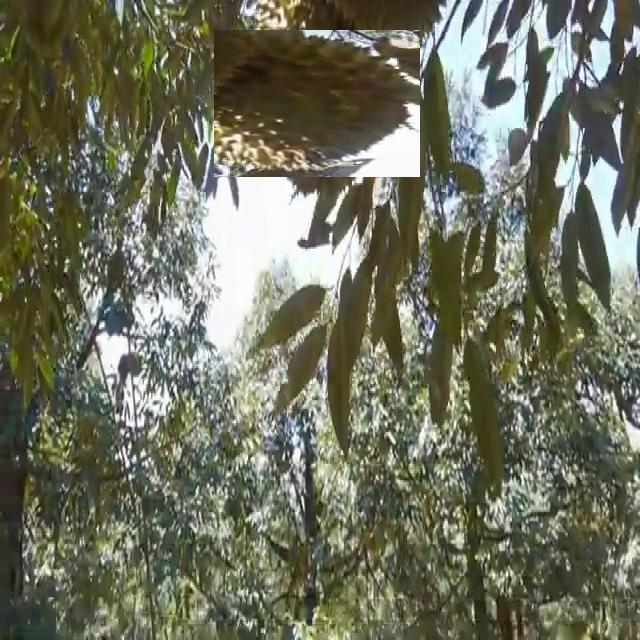durian: (228, 15, 406, 192)
